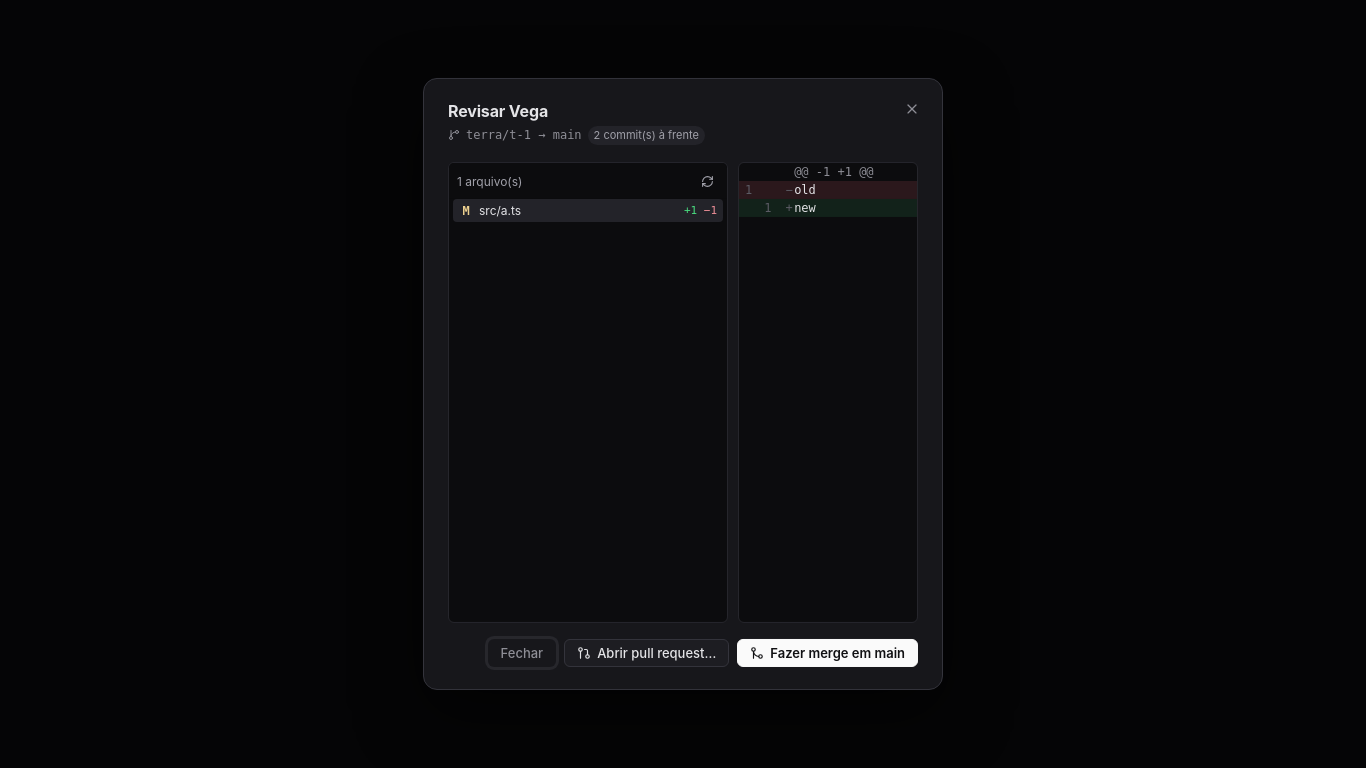
Test: WorktreeReviewDialog › Given a diff, when merging, then the merge runs only after a second click
Check: the text "new" is shown, box 794,201 -> 816,215
Check: the text "old" is shown, box 794,183 -> 816,197
Click the button "Fazer merge em main": (828, 653) 737,639 -> 918,667
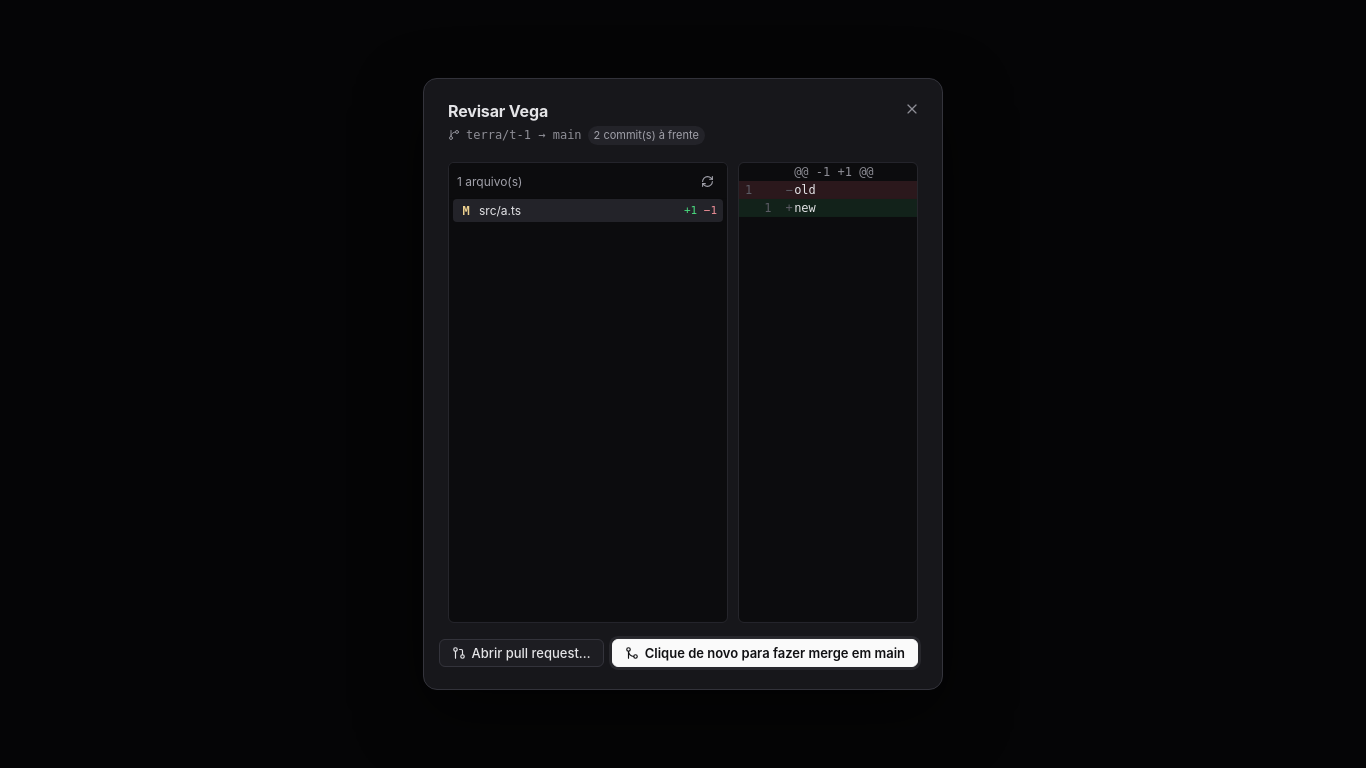
Click the button "Clique de novo para fazer merge em main": (765, 653) 612,639 -> 918,667
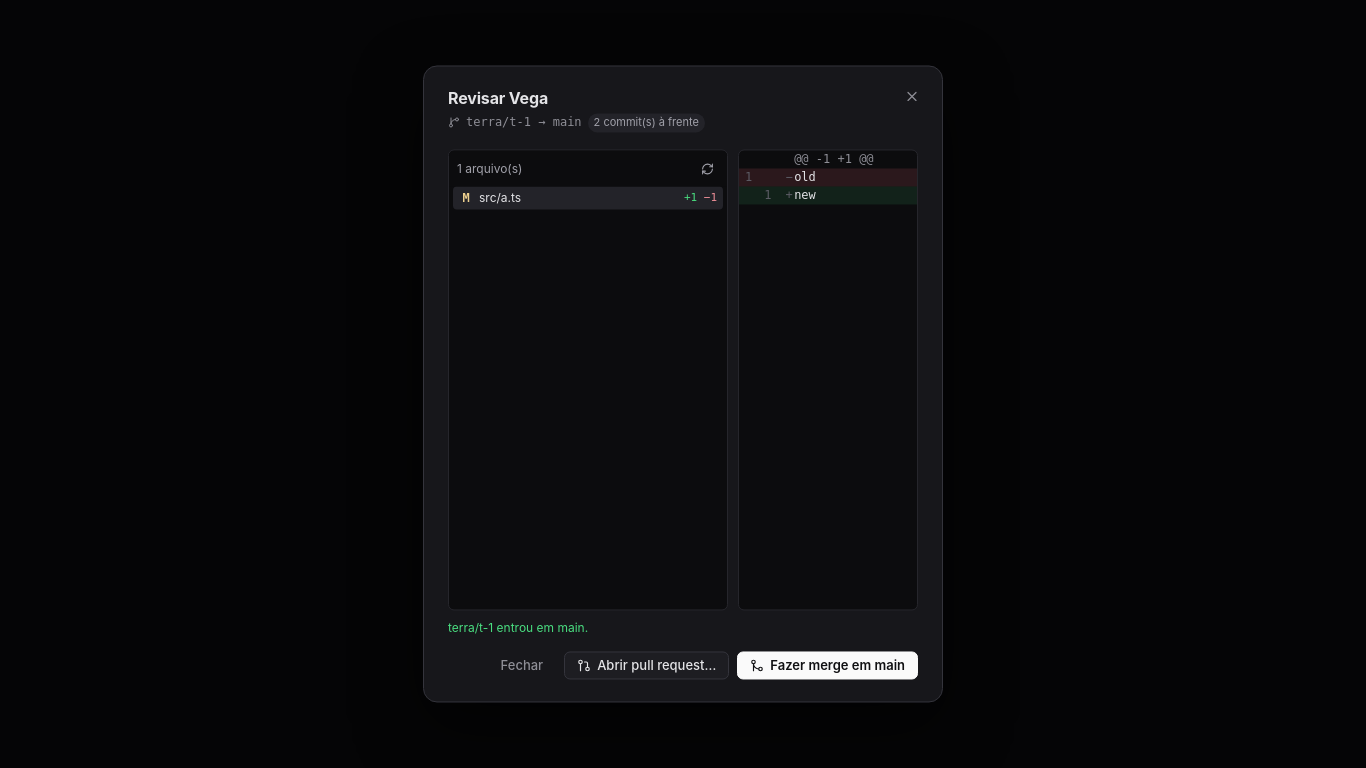
Check: the message "terra/t-1 entrou em main." is shown, box 448,620 -> 588,636
